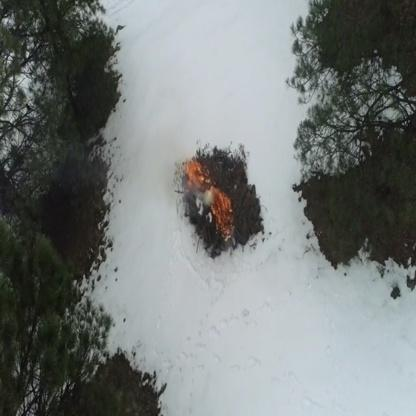Fire: (217, 197, 232, 237), (210, 188, 226, 214), (186, 162, 202, 186), (198, 172, 212, 185)
